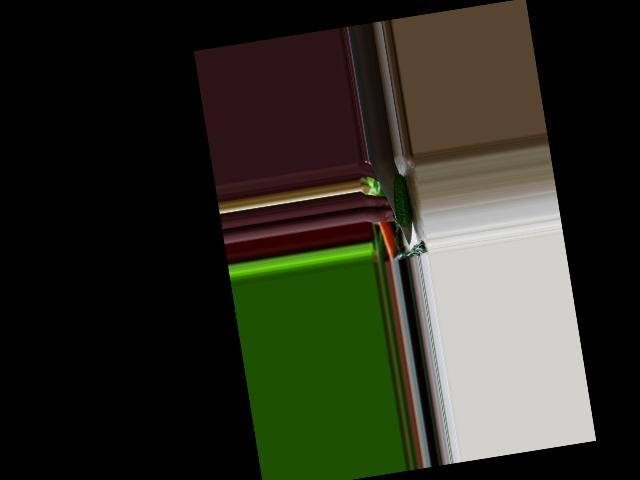cucumber: (390, 173, 414, 228)
